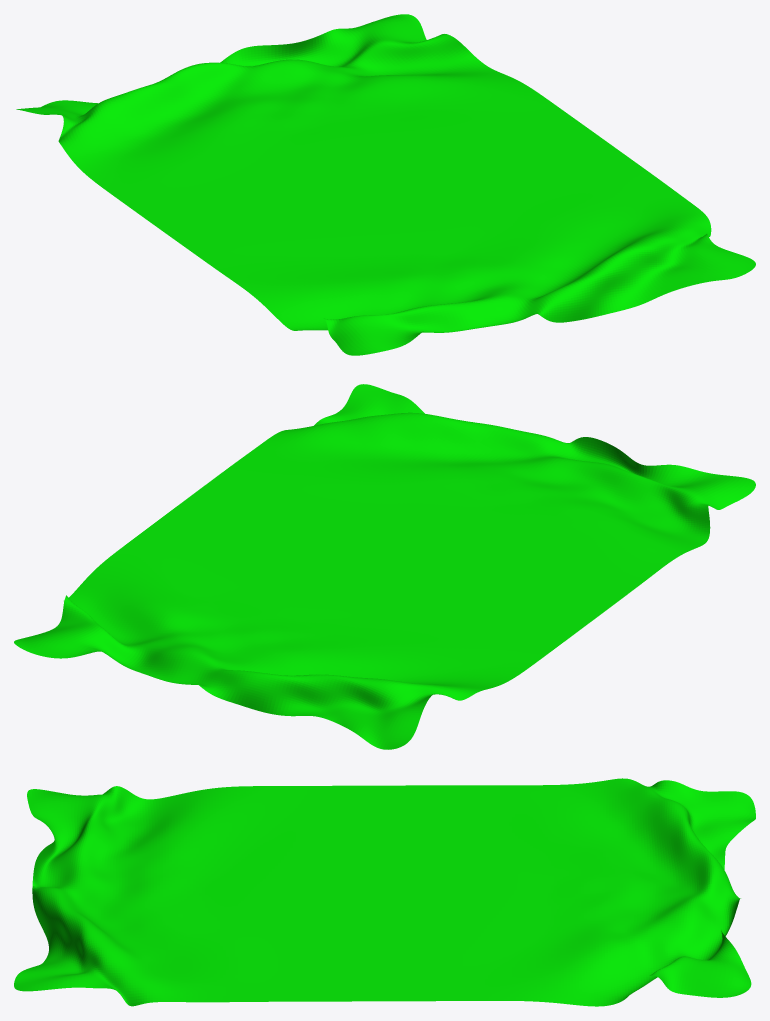
The model's file is paper3.glb.
The picture shows the model from 3 angles, top to bottom: view 1: azimuth 30°, elevation 25°; view 2: azimuth 150°, elevation 25°; view 3: azimuth 270°, elevation 25°; orthographic projection. The views are drawn at different scales.
Visible parts, largest first — view 1: Plane; view 2: Plane; view 3: Plane.
Boxes of the visible parts, x1=… form: Plane: x1=16, y1=14, x2=755, y2=355; Plane: x1=14, y1=384, x2=755, y2=749; Plane: x1=14, y1=778, x2=755, y2=1006.
Size of the model in its own units: 308 by 29.08 by 446.
1 material, 1 textured.
